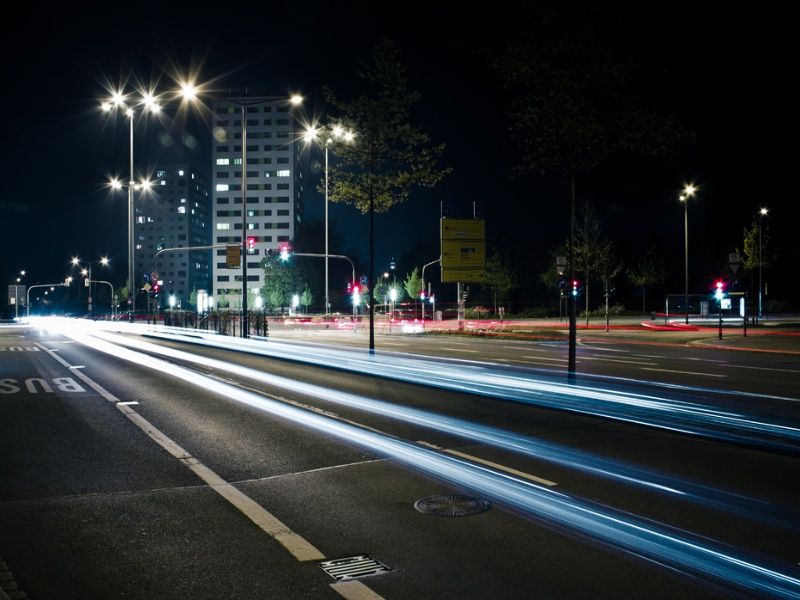red_light: (714, 278, 727, 290), (279, 242, 291, 252), (351, 283, 360, 294), (247, 236, 257, 245)
